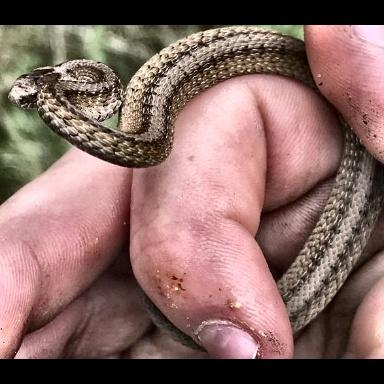snake: (9, 29, 322, 169), (277, 111, 384, 302)
